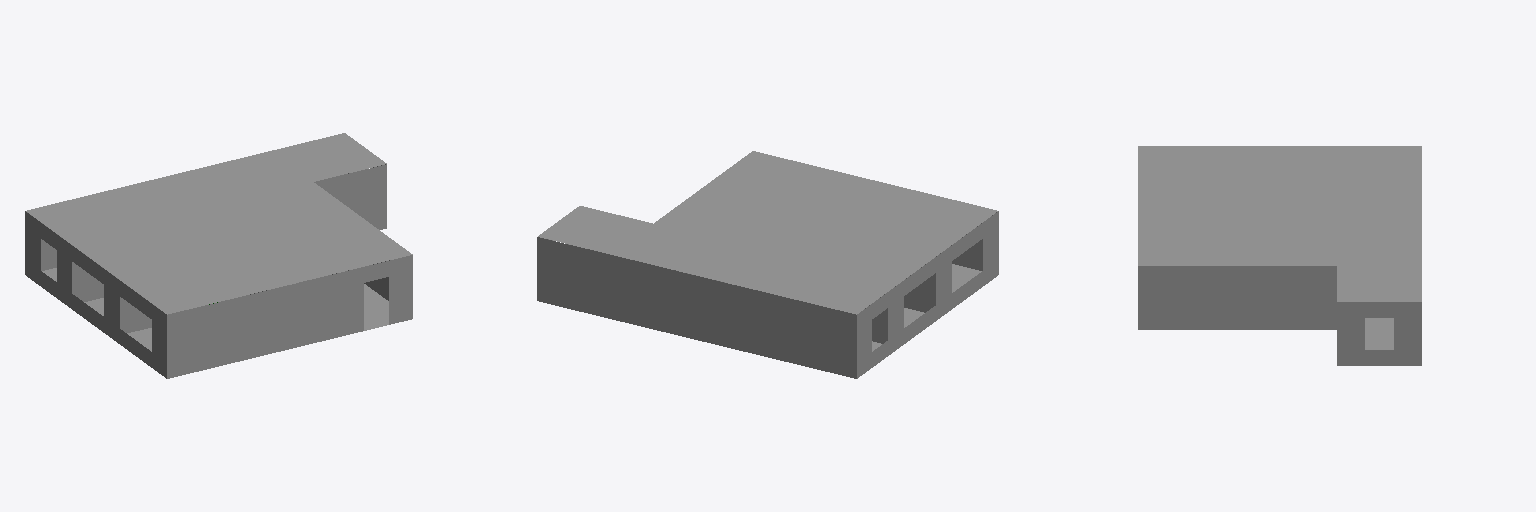
File: Flatac.obj
3 renders of one model, left to right at view 1: azimuth 30°, elevation 25°; view 2: azimuth 150°, elevation 25°; view 3: azimuth 270°, elevation 25°, orthographic.
Parts seen in each view (by area): view 1: Plane006, Line001, Plane004, Plane005, Line002, Plane003, Line009_wtw; view 2: Line001, Plane006, Plane004, Plane005, Line009_wtw, Plane003; view 3: Plane006, Line002, Plane004, Plane005, Line001, Plane001.
Boxes of the visible parts, x1,y1,x2,y2 form: Plane006: [68, 182, 412, 314]; Line001: [25, 164, 386, 378]; Plane004: [26, 169, 238, 241]; Plane005: [198, 133, 386, 199]; Line002: [339, 255, 412, 336]; Plane003: [84, 271, 388, 351]; Line009_wtw: [113, 275, 225, 332]; Line001: [537, 211, 998, 378]; Plane006: [654, 151, 997, 283]; Plane004: [685, 242, 898, 314]; Plane005: [538, 206, 726, 272]; Line009_wtw: [904, 253, 940, 312]; Plane003: [679, 264, 981, 327]; Plane006: [1138, 146, 1336, 265]; Line002: [1138, 266, 1336, 329]; Plane004: [1337, 146, 1421, 229]; Plane005: [1337, 230, 1421, 301]; Line001: [1337, 302, 1421, 365]; Plane001: [1365, 318, 1393, 349].
Bounding box in the file's own units: 15.16 × 2.92 × 11.66.